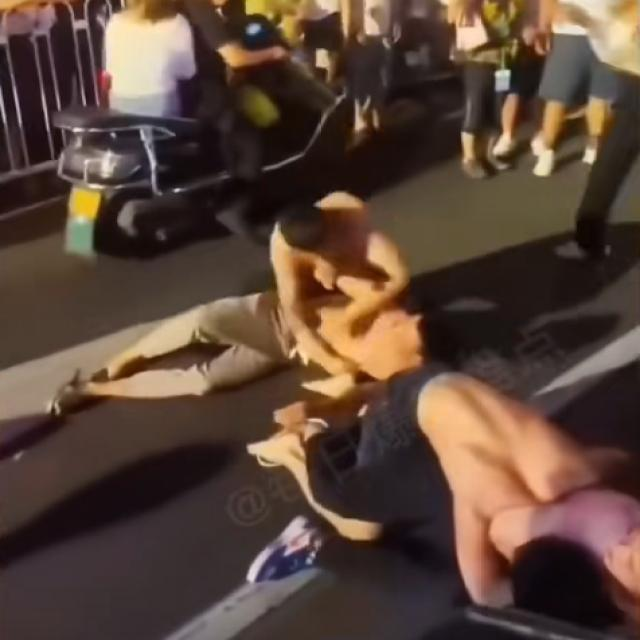fight: (385, 365, 640, 633), (238, 192, 463, 386)
